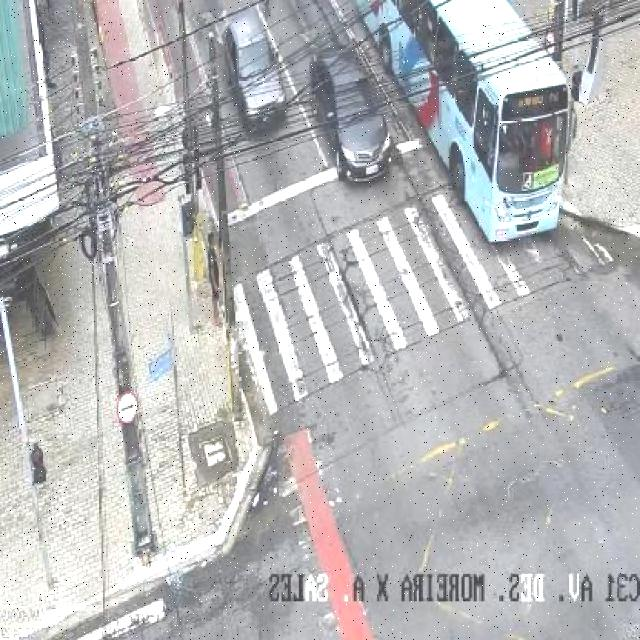Bus: (374, 0, 585, 244)
Car: (312, 47, 390, 183), (214, 3, 290, 132)
